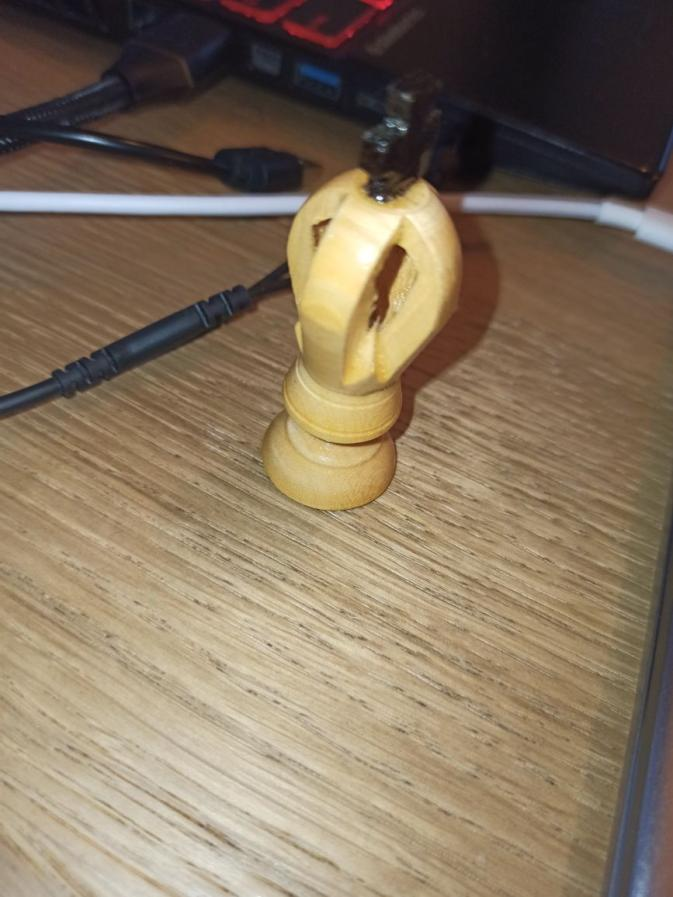wking: (263, 72, 467, 510)
